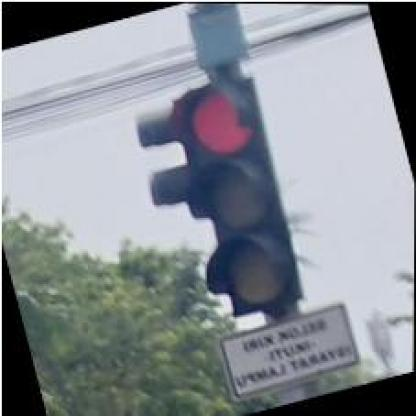red: (158, 70, 312, 319)
